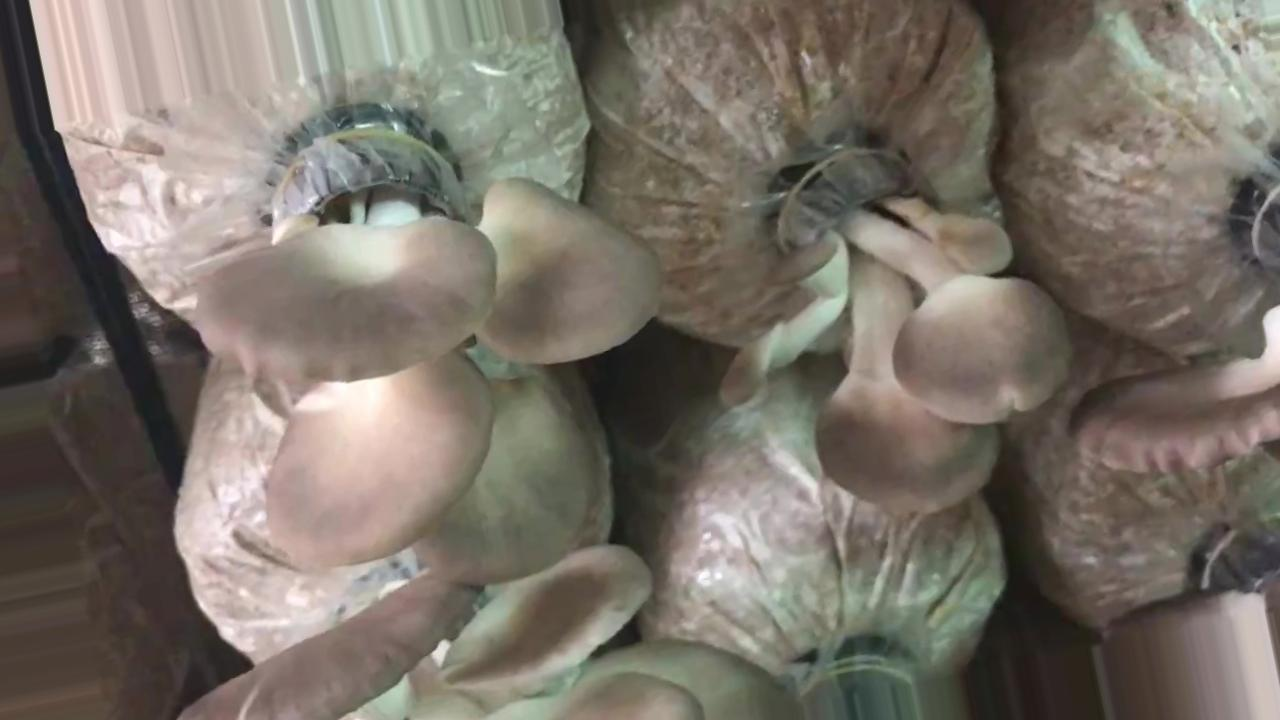nam: (202, 124, 659, 580), (721, 141, 1082, 518), (190, 550, 798, 720), (1071, 303, 1280, 475)
